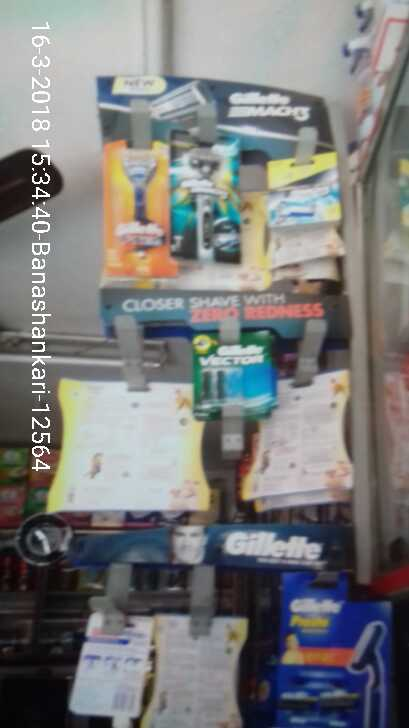gillette: (105, 138, 169, 292), (175, 135, 241, 257), (186, 333, 279, 416), (272, 156, 345, 215)
